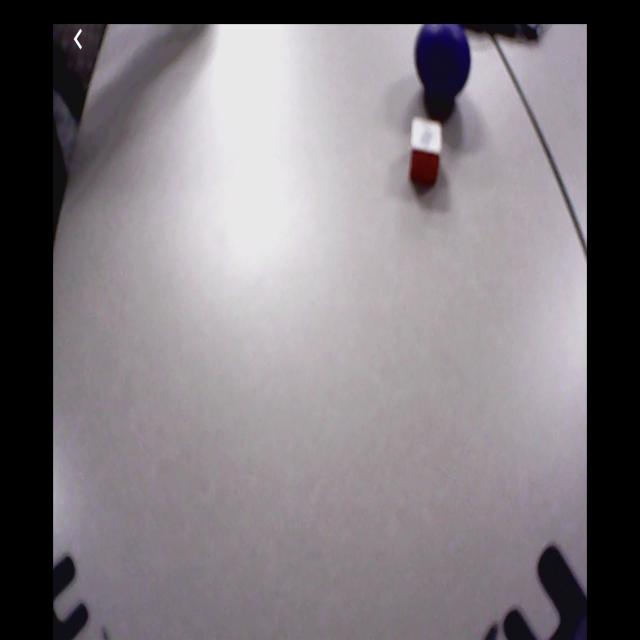ball: (416, 25, 473, 102)
